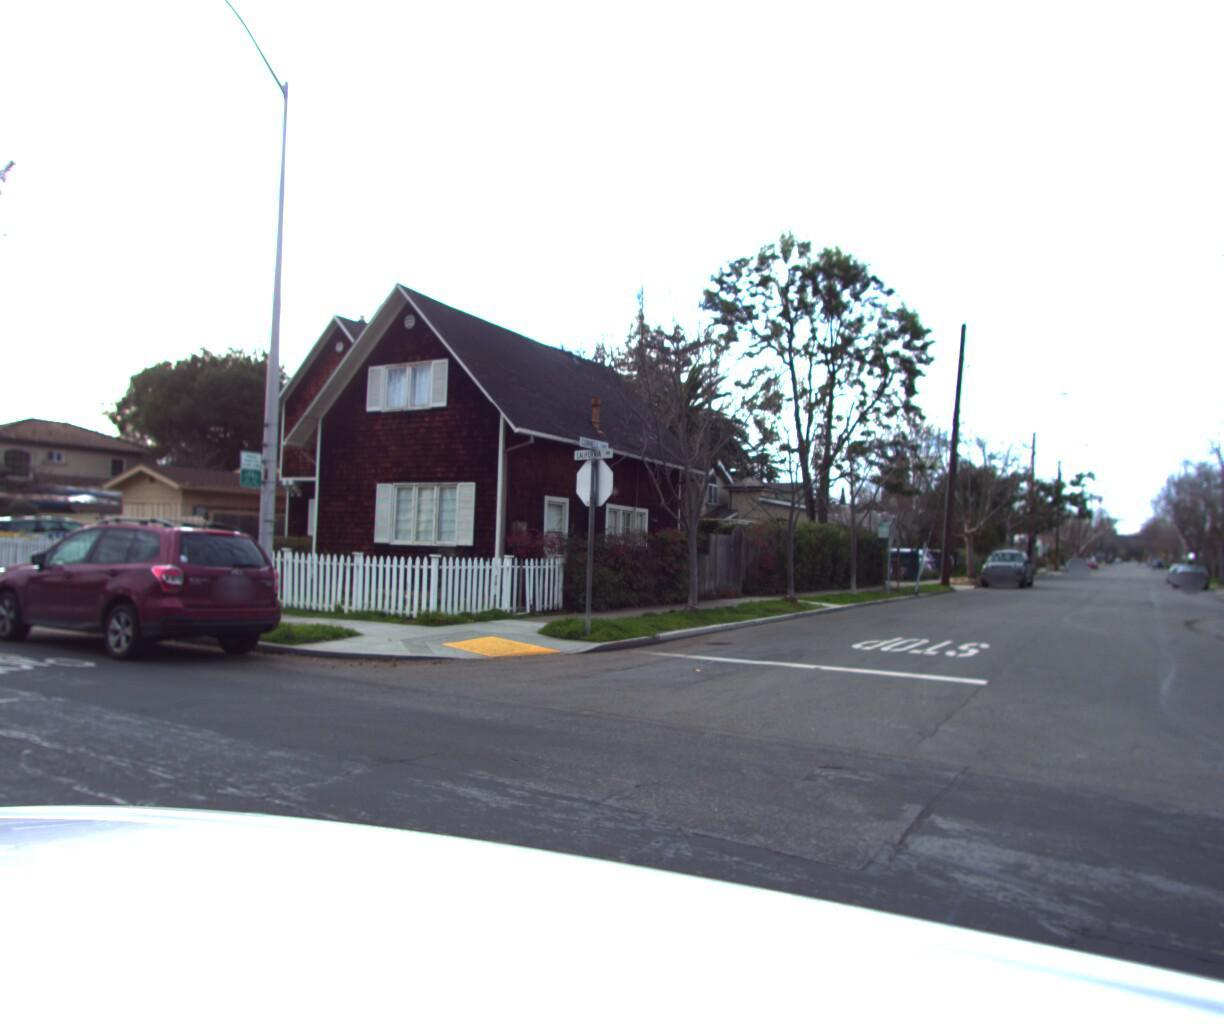car: (0, 513, 304, 667), (0, 513, 138, 573), (976, 540, 1036, 588), (858, 544, 943, 575), (904, 547, 978, 573), (1166, 558, 1209, 585)
